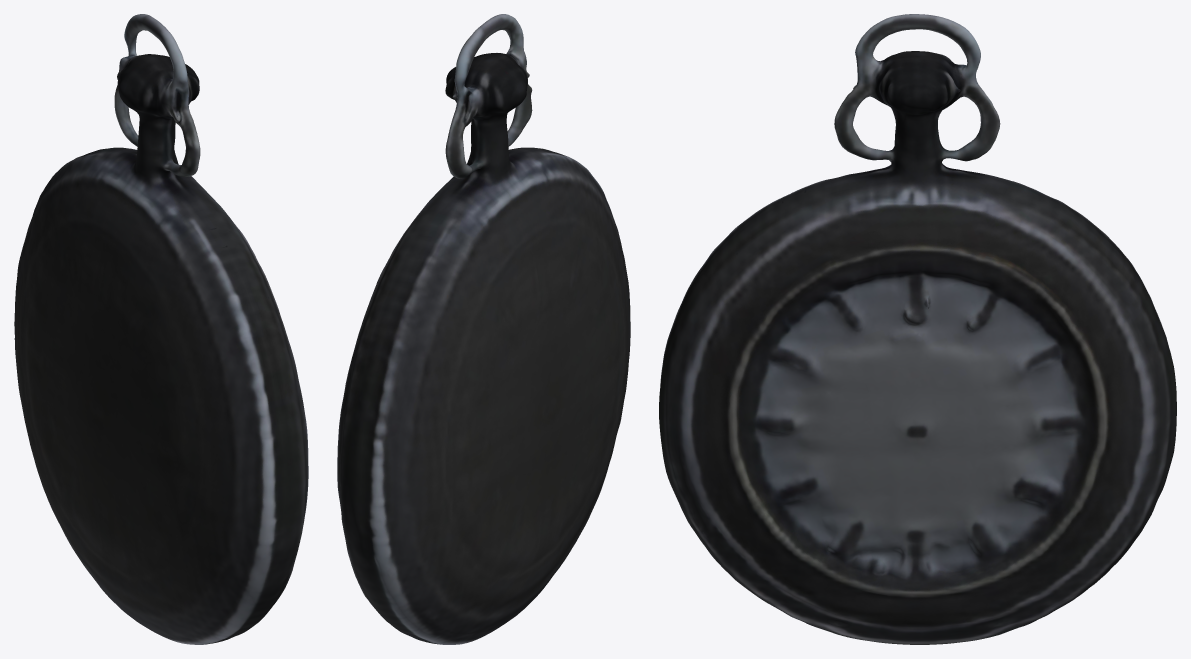
Rendered from watch.glb.
3 views of the same model, side by side, from view 1: azimuth 30°, elevation 25°; view 2: azimuth 150°, elevation 25°; view 3: azimuth 270°, elevation 25° (orthographic). The views are drawn at different scales.
Visible parts, largest first — view 1: high_poly; view 2: high_poly; view 3: high_poly.
Part boxes in pixels (x1,y1,x2,y2): high_poly: [14, 14, 308, 644]; high_poly: [337, 14, 630, 644]; high_poly: [659, 14, 1176, 644].
Bounding box in the file's own units: 0.2076 × 1 × 0.751.
Materials: 1 (1 with a texture image).
